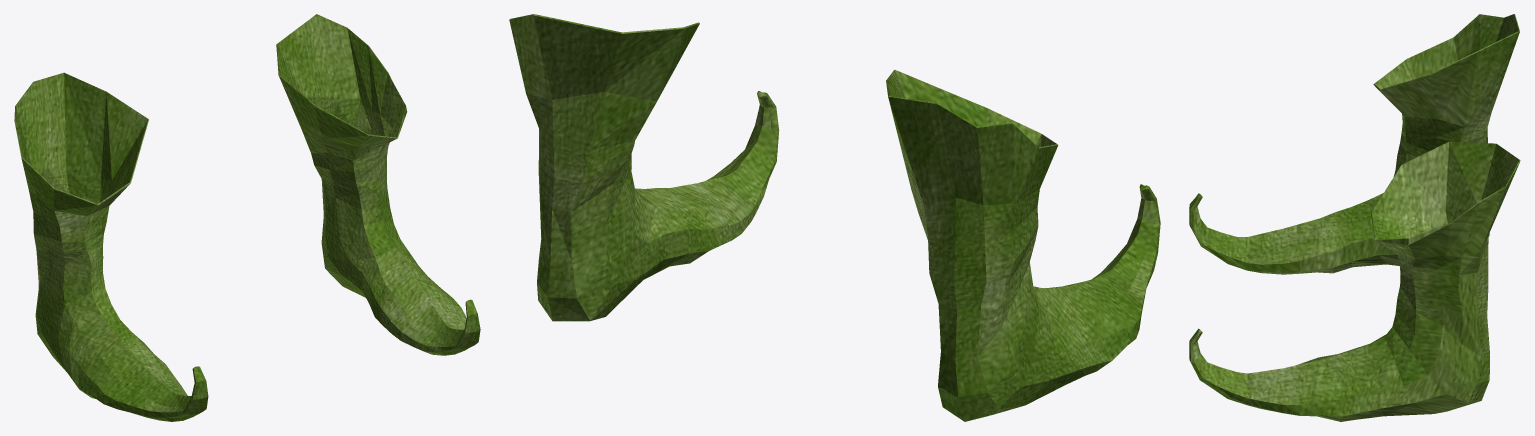
The model's file is mhw_elvs_basic_felt_elf_shoes.glb.
3 renders of one model, left to right at view 1: azimuth 30°, elevation 25°; view 2: azimuth 150°, elevation 25°; view 3: azimuth 270°, elevation 25°, orthographic. The views are drawn at different scales.
Parts seen in each view (by area): view 1: mhw_elvs_basic_felt_elf_shoes; view 2: mhw_elvs_basic_felt_elf_shoes; view 3: mhw_elvs_basic_felt_elf_shoes.
Part boxes in pixels (x1,y1,x2,y2): mhw_elvs_basic_felt_elf_shoes: (14,14,480,421); mhw_elvs_basic_felt_elf_shoes: (509,14,1160,421); mhw_elvs_basic_felt_elf_shoes: (1189,14,1520,421).
Bounding box in the file's own units: 0.5476 × 0.3509 × 0.4179.
1 material, 1 textured.
